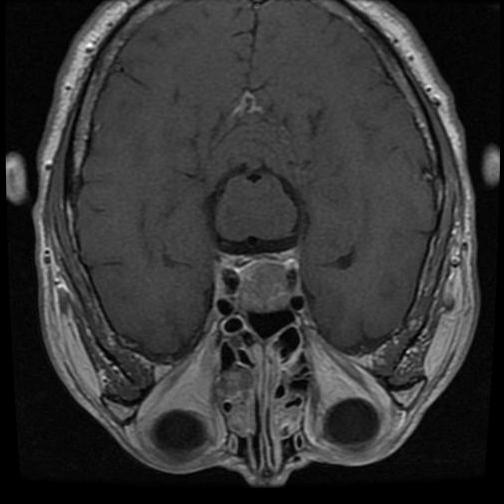Tumour-Pituitary: (210, 252, 310, 314)
